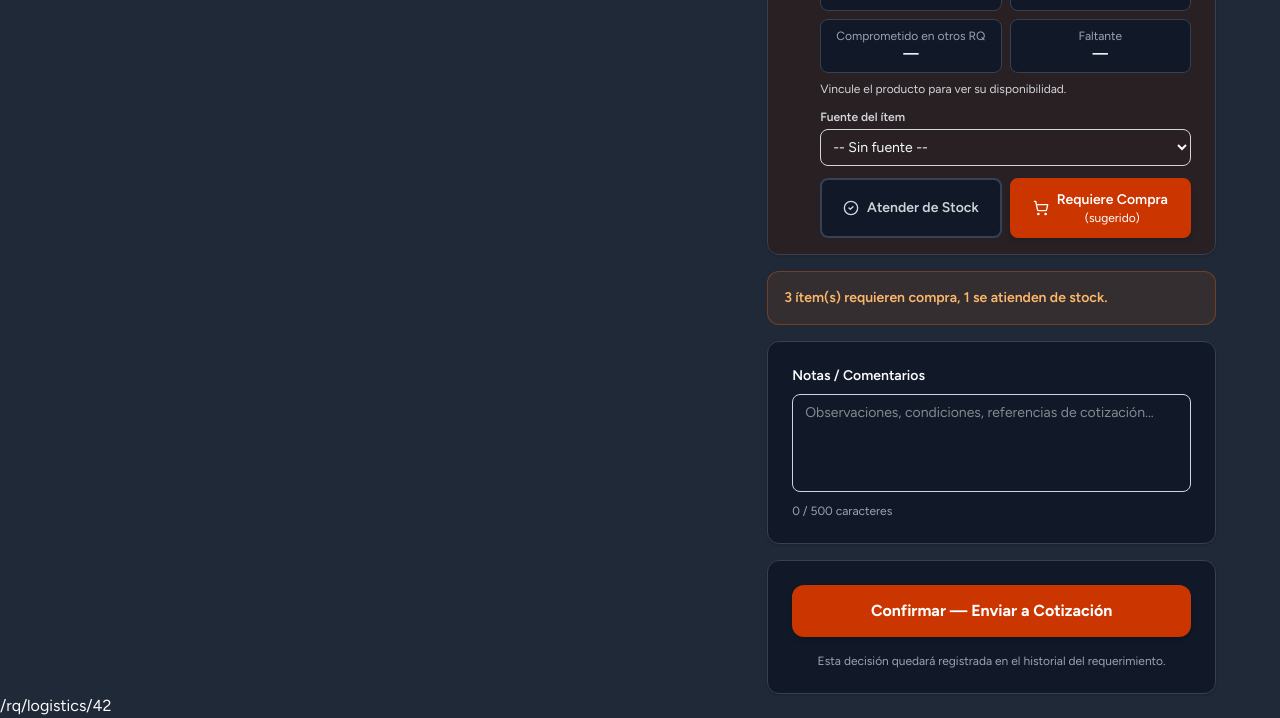
Test: LogisticsActionPage — después de guardar los ítems › si STOCK_CHECKED falla, muestra el motivo, no sale de la pantalla y deja reintentar
(page scrolled)
Click the button "Confirmar — Enviar a Cotización" at x=992, y=611, box x1=792 y1=585 x2=1191 y2=637
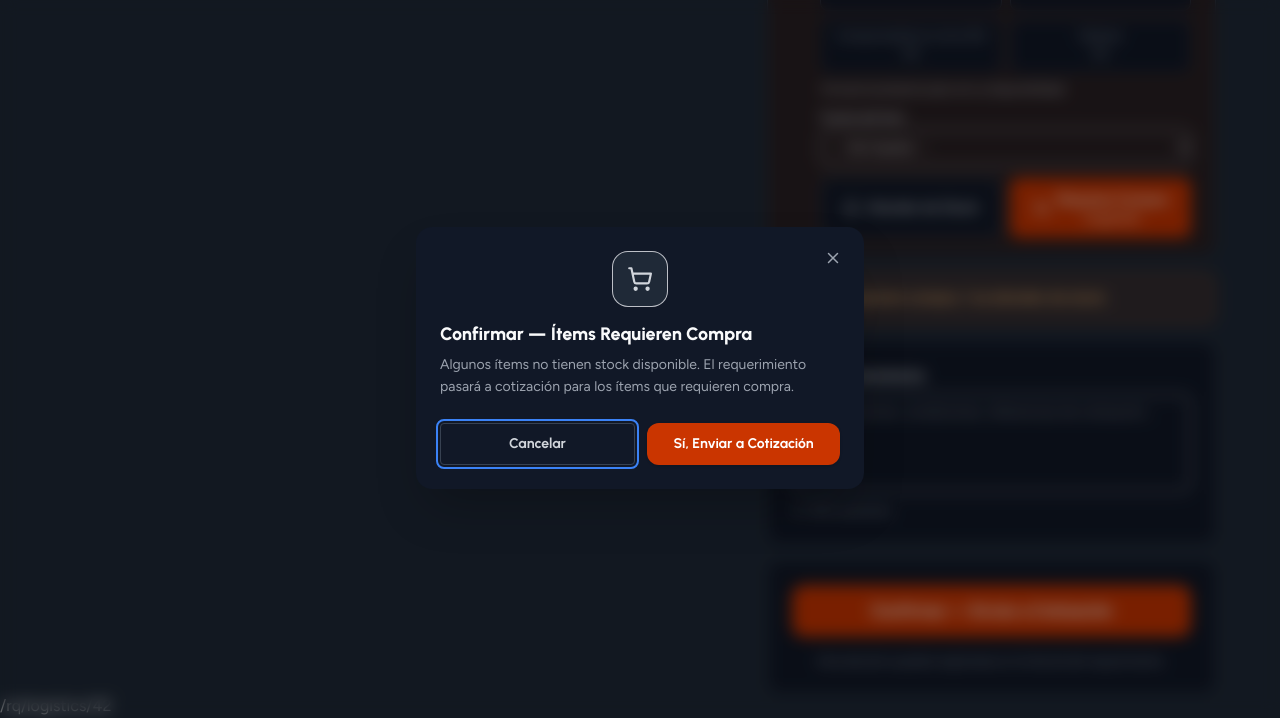
Click the button "Sí, Enviar a Cotización" at x=744, y=444, box x1=647 y1=423 x2=840 y2=465
(page scrolled)
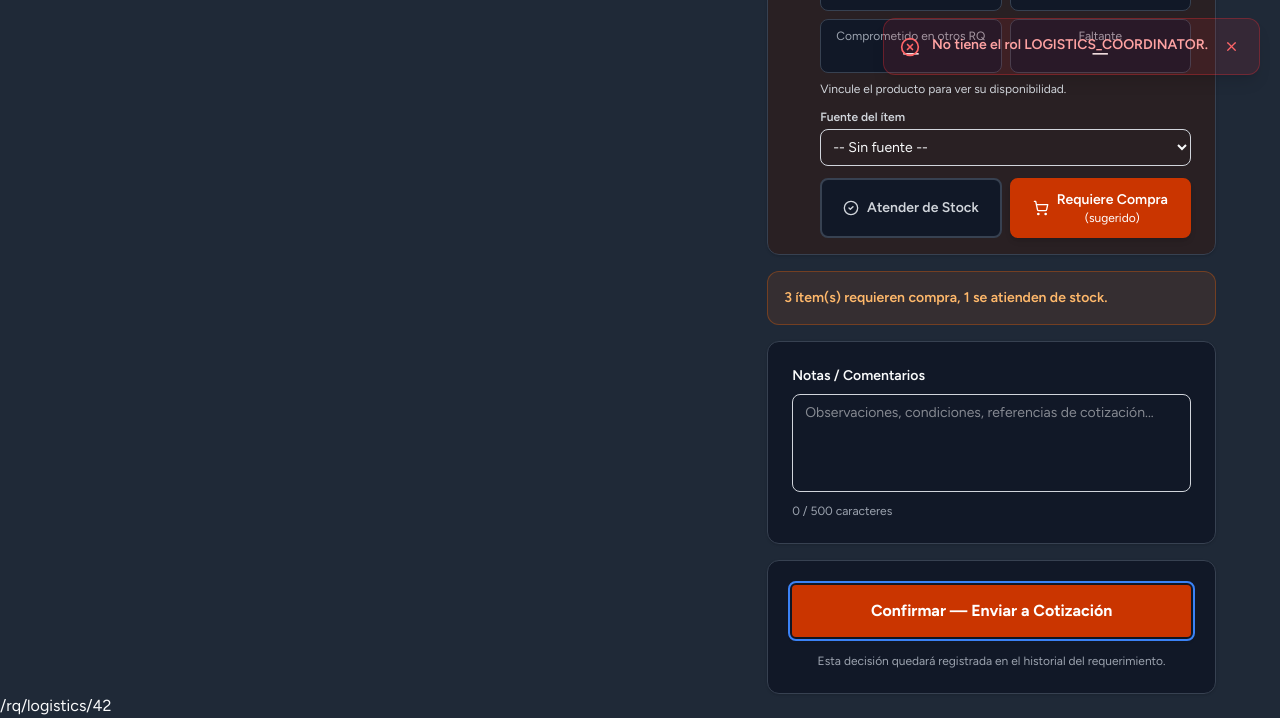
Expected: the text with test id "loc" reads "/rq/logistics/42", x1=0 y1=696 x2=112 y2=715
Click the button "Confirmar — Enviar a Cotización" at x=992, y=611, box x1=792 y1=585 x2=1191 y2=637
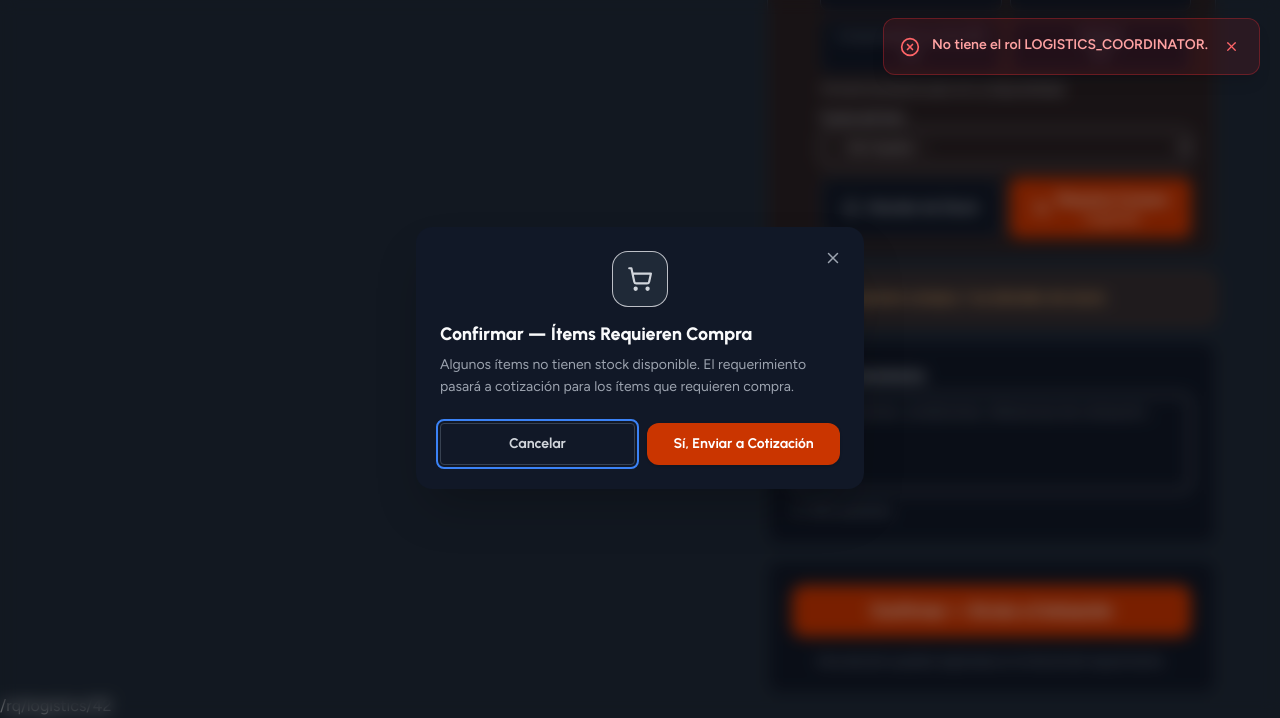
Click the button "Sí, Enviar a Cotización" at x=744, y=444, box x1=647 y1=423 x2=840 y2=465
(page scrolled)
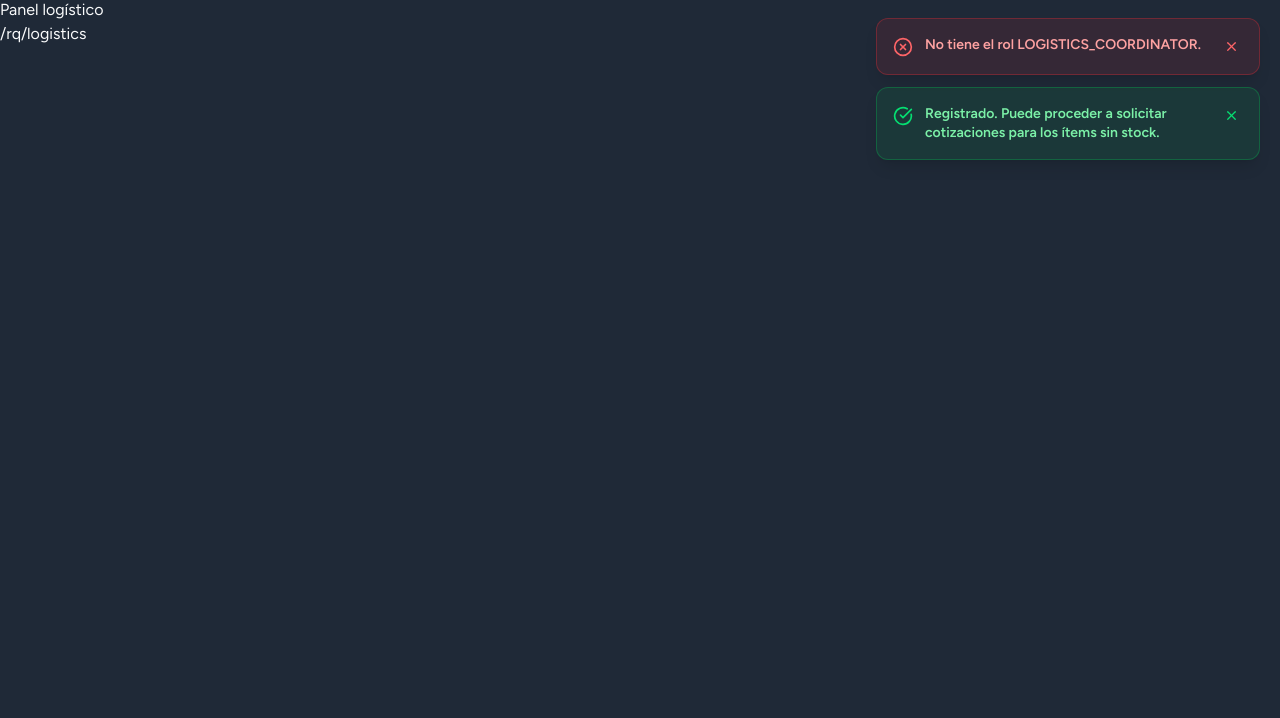
Now the text with test id "loc" reads "/rq/logistics", box x1=0 y1=24 x2=86 y2=43
